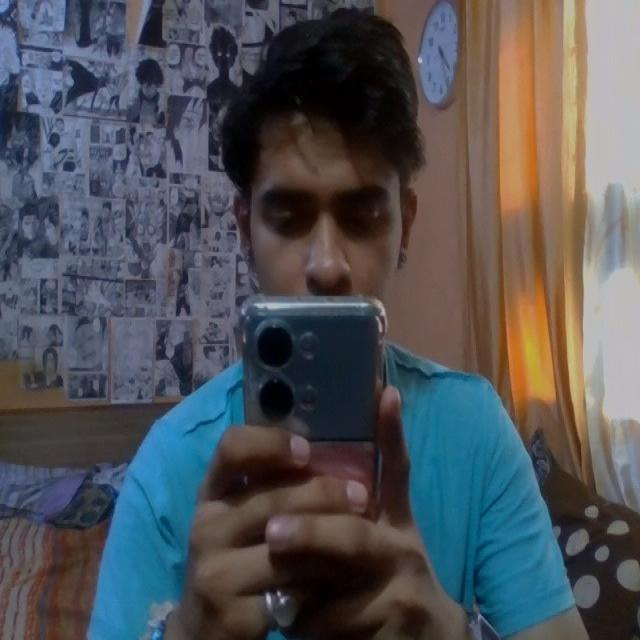phone: (239, 299, 392, 553)
using-phone: (94, 6, 596, 640)
